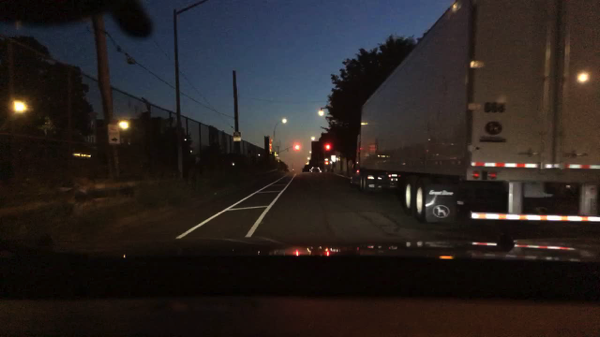car: (309, 167, 322, 173)
traffic sign: (107, 124, 121, 145), (232, 132, 241, 142), (330, 155, 336, 162)
truck: (349, 1, 599, 224)
